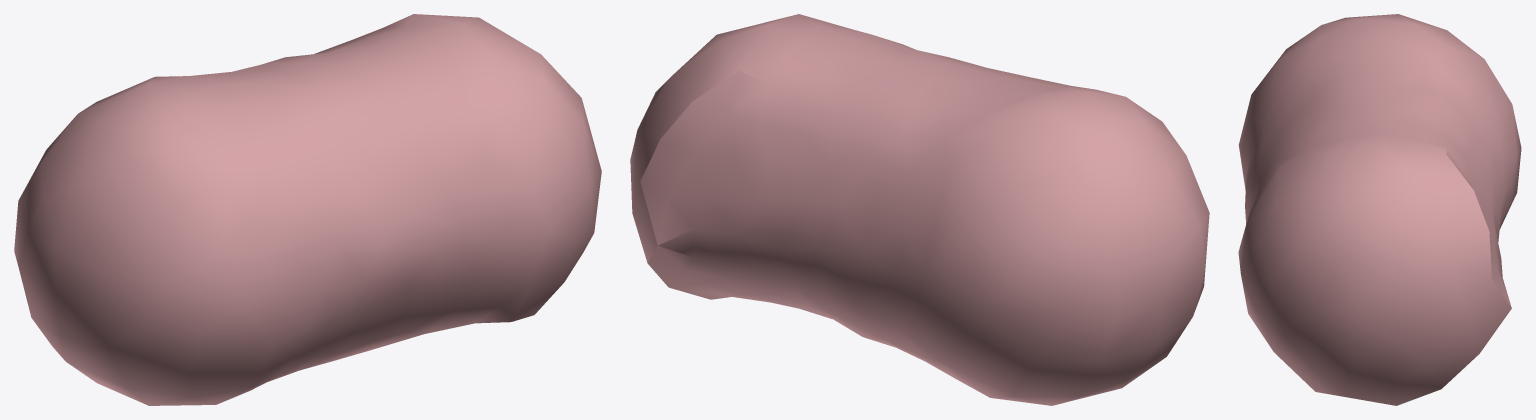
Rendered from fma53144-l_mm2101.glb.
3 renders of one model, left to right at view 1: azimuth 30°, elevation 25°; view 2: azimuth 150°, elevation 25°; view 3: azimuth 270°, elevation 25°, orthographic. The views are drawn at different scales.
Visible parts, largest first — view 1: FMA53144-L_MM2101; view 2: FMA53144-L_MM2101; view 3: FMA53144-L_MM2101.
Part boxes in pixels (x1,y1,x2,y2): FMA53144-L_MM2101: (14,14,601,405); FMA53144-L_MM2101: (630,14,1209,405); FMA53144-L_MM2101: (1238,14,1521,405).
Bounding box in the file's own units: 0.00801 × 0.0042 × 0.00425.
